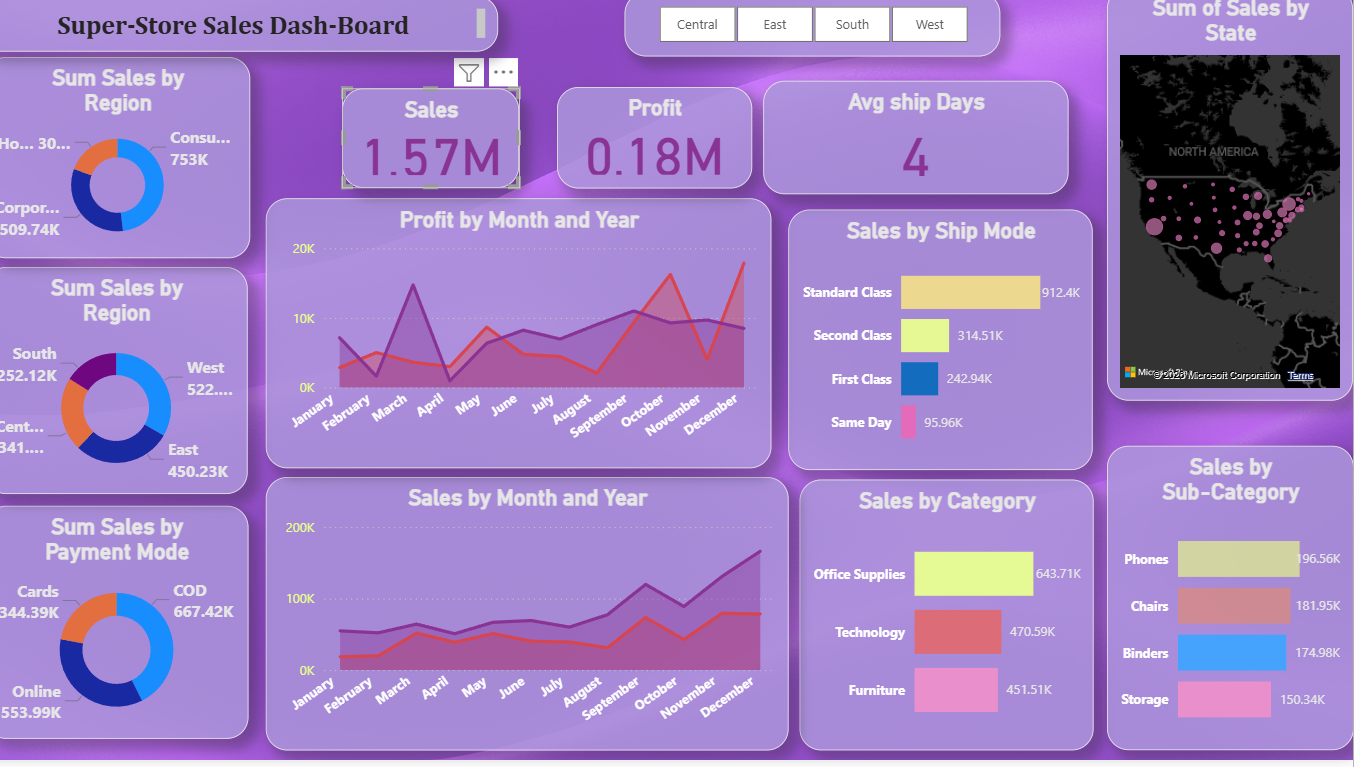

Layout of this report page (visuals, bound fields, positions):
{"tool":"powerbi","page":{"name":"Page 1","canvas":[1280,720],"ordinal":0},"visuals":[{"type":"clusteredBarChart","title":"Sales by Ship Mode","fields":{"Y":["Sum(Sheet1.Sales)"],"Category":["Sheet1.Ship Mode"]},"box":[755.2,207.5,283.5,242.5],"z":0},{"type":"clusteredBarChart","title":"Sales by Category","fields":{"Y":["Sum(Sheet1.Sales)"],"Category":["Sheet1.Category"]},"box":[764.9,458.4,273.9,252.1],"z":1000},{"type":"clusteredBarChart","title":"Sales by Sub-Category","fields":{"Y":["Sum(Sheet1.Sales)"],"Category":["Sheet1.Sub-Category"]},"box":[1050.8,427.1,229.2,283.5],"z":2000},{"type":"areaChart","title":"Sales by Month and Year","fields":{"Category":["Sheet1.Order Date.Variation.Date Hierarchy.Month","Sheet1.Order Date.Variation.Date Hierarchy.Day"],"Series":["Sheet1.Order Date.Variation.Date Hierarchy.Year"],"Y":["Sum(Sheet1.Sales)"]},"box":[269,456,486.2,254.6],"z":3000},{"type":"areaChart","title":" Profit by Month and Year","fields":{"Category":["Sheet1.Order Date.Variation.Date Hierarchy.Month","Sheet1.Order Date.Variation.Date Hierarchy.Day"],"Series":["Sheet1.Order Date.Variation.Date Hierarchy.Year"],"Y":["Sum(Sheet1.Profit)"]},"box":[269,196.6,470.5,250.9],"z":4000},{"type":"donutChart","title":" Sum Sales by Payment Mode","fields":{"Y":["Sum(Sheet1.Sales)"],"Category":["Sheet1.Payment Mode"]},"box":[6.9,483,245.6,216.8],"z":5000},{"type":"donutChart","title":" Sum Sales by Region","fields":{"Y":["Sum(Sheet1.Sales)"],"Category":["Sheet1.Region"]},"box":[7.2,260.6,244.9,211.1],"z":6000},{"type":"donutChart","title":" Sum Sales by Region","fields":{"Y":["Sum(Sheet1.Sales)"],"Category":["Sheet1.Segment"]},"box":[7.2,65.1,247.3,187],"z":7000},{"type":"map","fields":{"Category":["Sheet1.State"],"Size":["Sum(Sheet1.Sales)"]},"box":[1051.2,0,229.1,384.9],"z":8000},{"type":"card","title":"Sales","fields":{"Values":["Sum(Sheet1.Sales)"]},"box":[340.2,86.9,172.5,94.1],"z":9000},{"type":"card","title":"Profit","fields":{"Values":["Sum(Sheet1.Profit)"]},"box":[530.8,86.9,182.2,94.1],"z":10000},{"type":"card","title":"Avg ship Days","fields":{"Values":["Avg(super-store.ship_speed)"]},"box":[739.5,89.5,162.8,107],"z":11000},{"type":"textbox","box":[0,8.4,485,51.9],"z":12000},{"type":"slicer","fields":{"Values":["super-store.Region"]},"box":[602,4.8,349.9,60.3],"z":13000}]}

Visuals, with their boxes in screenshot pixels (x1, y1, x2, y2), scaled from the page's 1280x720 canvas onto the 1360x767 screenshot:
"Sales by Ship Mode" clusteredBarChart: pyautogui.locateOnScreen(802, 221, 1104, 479)
"Sales by Category" clusteredBarChart: pyautogui.locateOnScreen(813, 488, 1104, 757)
"Sales by Sub-Category" clusteredBarChart: pyautogui.locateOnScreen(1116, 455, 1359, 757)
"Sales by Month and Year" areaChart: pyautogui.locateOnScreen(286, 486, 802, 757)
" Profit by Month and Year" areaChart: pyautogui.locateOnScreen(286, 209, 786, 477)
" Sum Sales by Payment Mode" donutChart: pyautogui.locateOnScreen(7, 515, 268, 745)
" Sum Sales by Region" donutChart: pyautogui.locateOnScreen(8, 278, 268, 502)
" Sum Sales by Region" donutChart: pyautogui.locateOnScreen(8, 69, 270, 269)
map - Sheet1.State x Sum(Sheet1.Sales): pyautogui.locateOnScreen(1117, 0, 1359, 410)
"Sales" card: pyautogui.locateOnScreen(361, 93, 545, 193)
"Profit" card: pyautogui.locateOnScreen(564, 93, 758, 193)
"Avg ship Days" card: pyautogui.locateOnScreen(786, 95, 959, 209)
textbox: pyautogui.locateOnScreen(0, 9, 515, 64)
slicer - super-store.Region: pyautogui.locateOnScreen(640, 5, 1011, 69)
